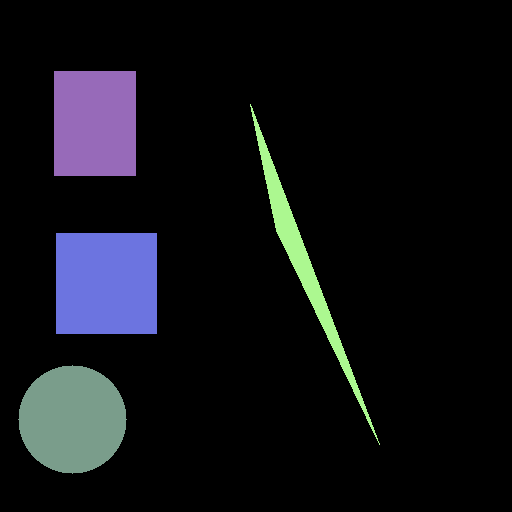circle: (18, 365, 126, 473)
rectangle: (54, 71, 135, 175)
square: (56, 233, 156, 333)
triangle: (250, 104, 379, 444)
